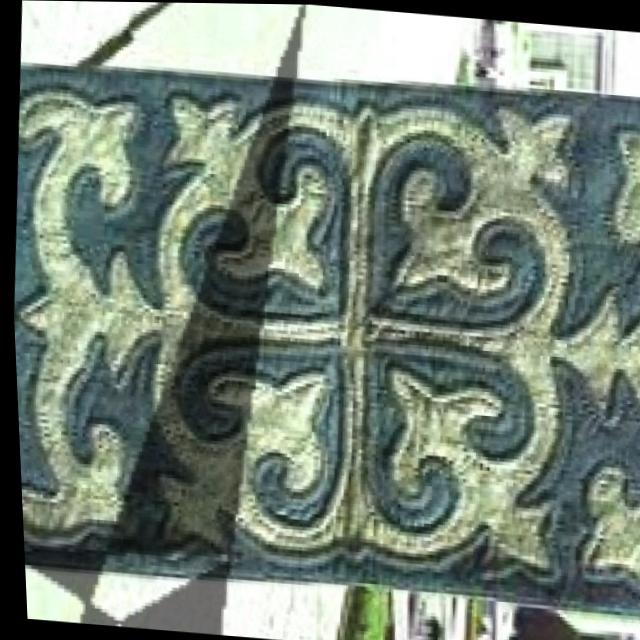Unity: (133, 65, 585, 618)
